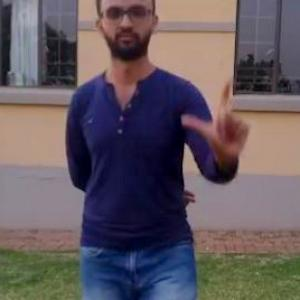land_hand: (180, 75, 252, 156)
